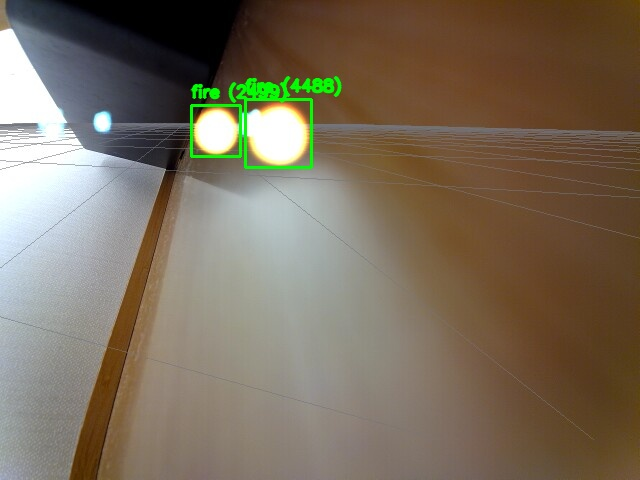fire: (245, 99, 311, 167), (191, 105, 240, 156)
